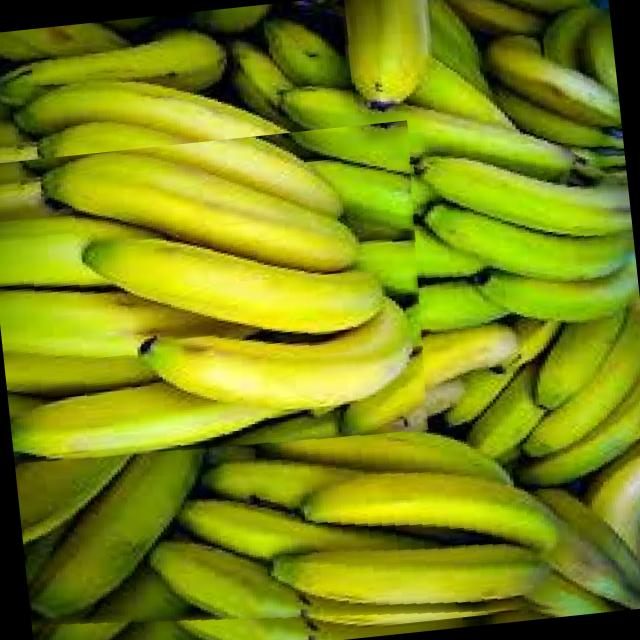Organic: (0, 0, 640, 640), (0, 120, 438, 473)
